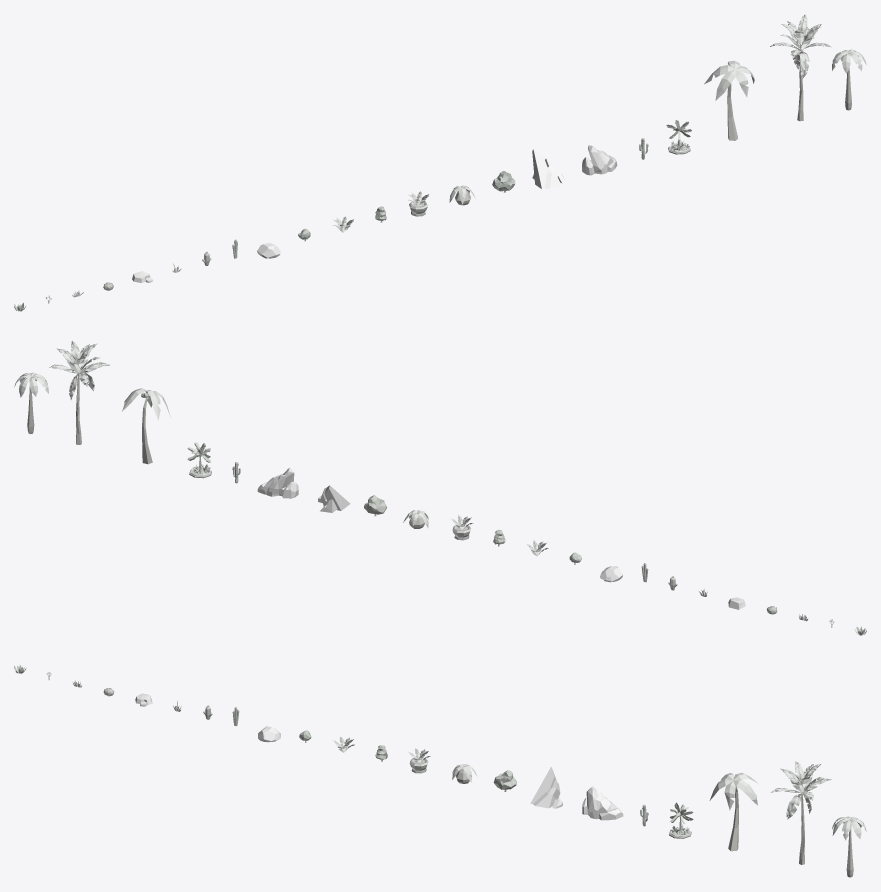
Rendered from nature-props.glb.
3 views of the same model, one above another, from view 1: azimuth 30°, elevation 25°; view 2: azimuth 150°, elevation 25°; view 3: azimuth 330°, elevation 25° (orthographic).
Visible parts, largest first — view 1: palm-high, palm-big, rock-sharp, rock-large, palm; view 2: palm-high, palm-big, rock-large, palm; view 3: palm-high, palm-big, rock-large, rock-sharp, palm, scifi-pot-low-palm.
Boxes of the visible parts, x1,y1,x2,y2 form: palm-high: (770,15,831,121); palm-big: (704,60,754,140); rock-sharp: (532,149,565,189); rock-large: (582,145,617,175); palm: (832,49,866,110); palm-high: (49,341,109,444); palm-big: (122,388,170,464); rock-large: (257,468,298,498); palm: (14,372,48,433); palm-high: (771,761,831,864); palm-big: (709,772,757,851); rock-large: (582,786,623,820); rock-sharp: (530,767,562,808); palm: (832,816,866,877); scifi-pot-low-palm: (669,802,693,838).
Size of the model in its own units: 115 by 13.12 by 6.12.
Materials: 1 (1 with a texture image).
